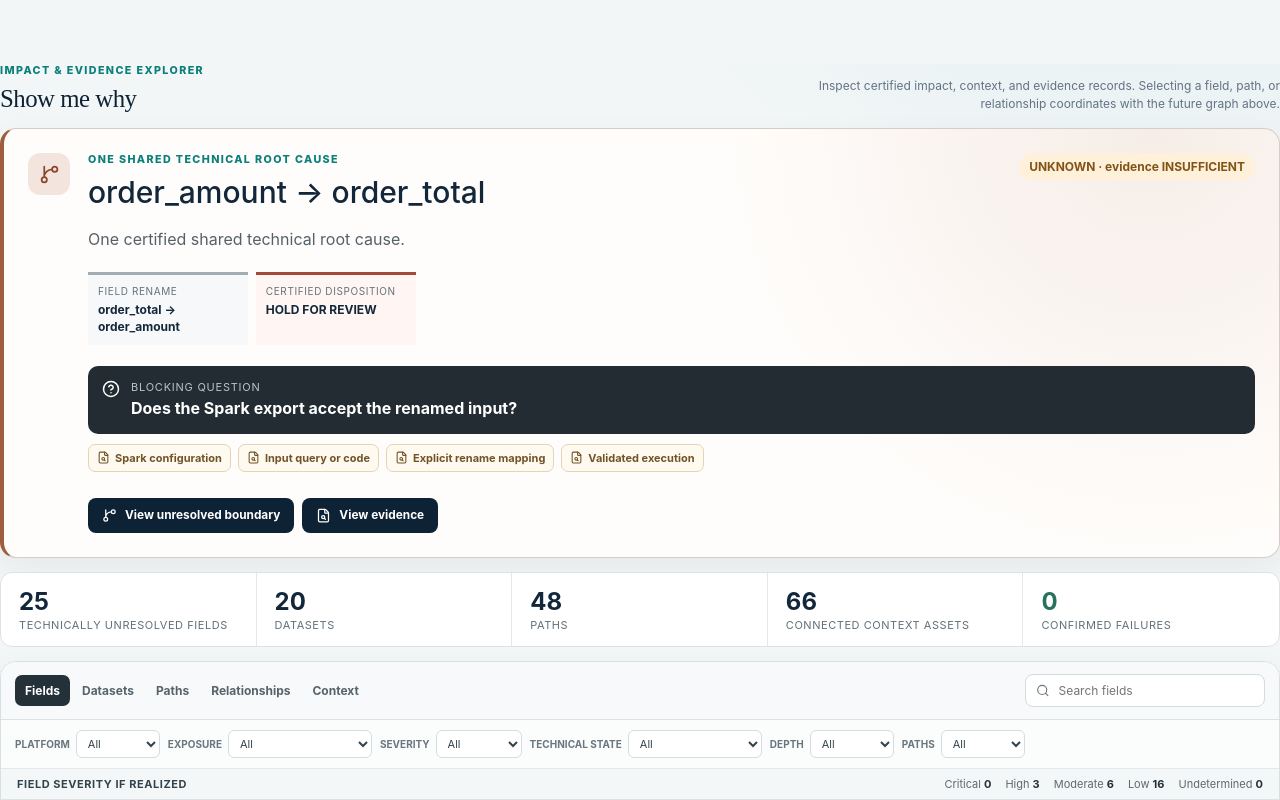
ImpactEvidenceExplorer › shows an empty state when search has no loaded matches
Type "no-such-field" into the search field at coordinates (1155, 690), box left=1057, top=682, right=1254, bottom=699
(page scrolled)
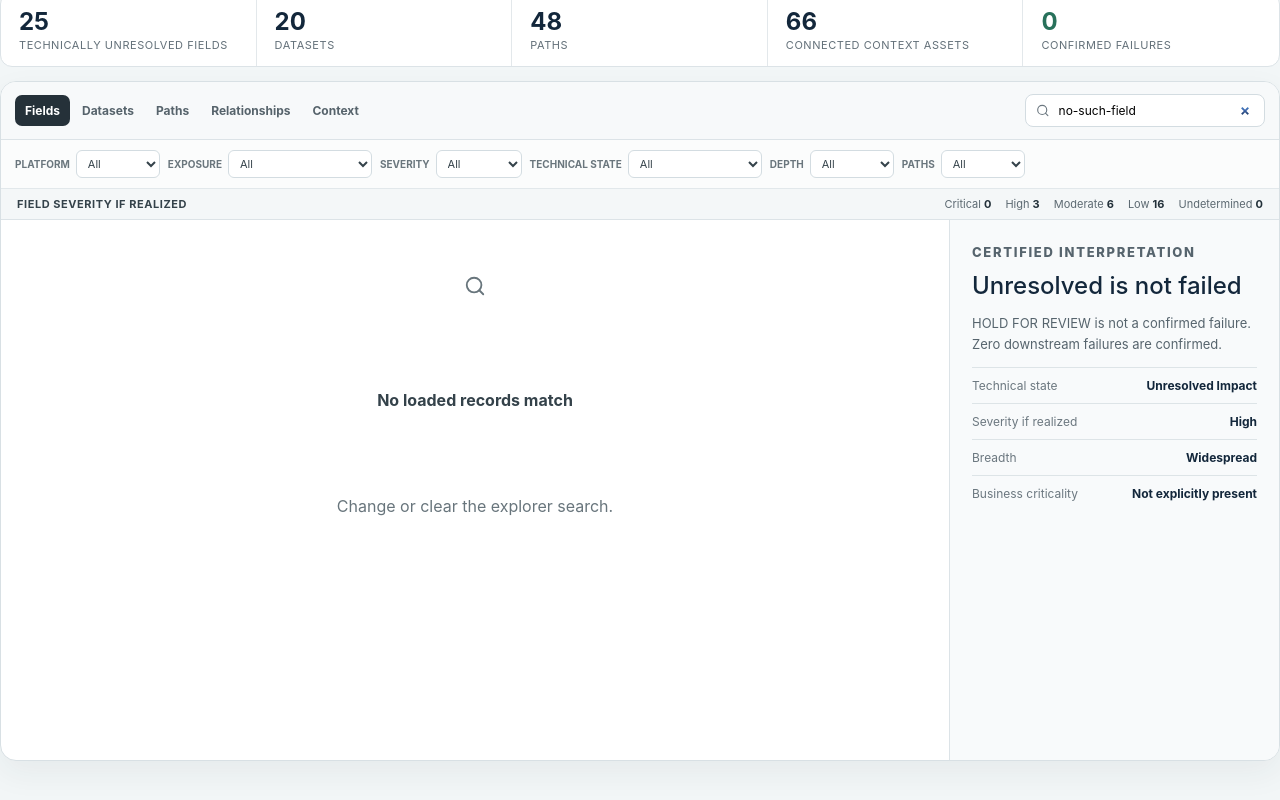
Expected: the text "No loaded records match" is shown, left=377, top=390, right=573, bottom=410
